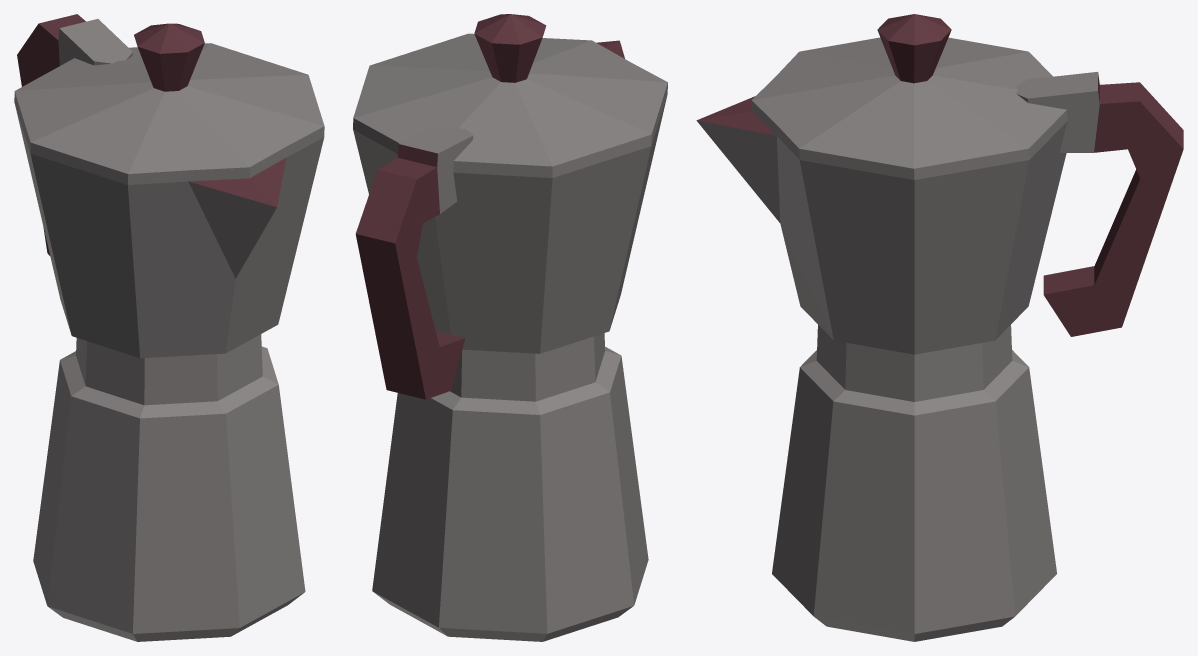
The model's file is mokka-pot.fbx.
3 views of the same model, side by side, from view 1: azimuth 30°, elevation 25°; view 2: azimuth 150°, elevation 25°; view 3: azimuth 270°, elevation 25° (orthographic).
Visible parts, largest first — view 1: mokka-pot; view 2: mokka-pot; view 3: mokka-pot.
Boxes of the visible parts, box(x1,y1,x2,y2) form: mokka-pot: box(14, 14, 324, 641); mokka-pot: box(353, 14, 667, 641); mokka-pot: box(696, 14, 1183, 641).
Size of the model in its own units: 0.1255 by 0.2453 by 0.1883.
